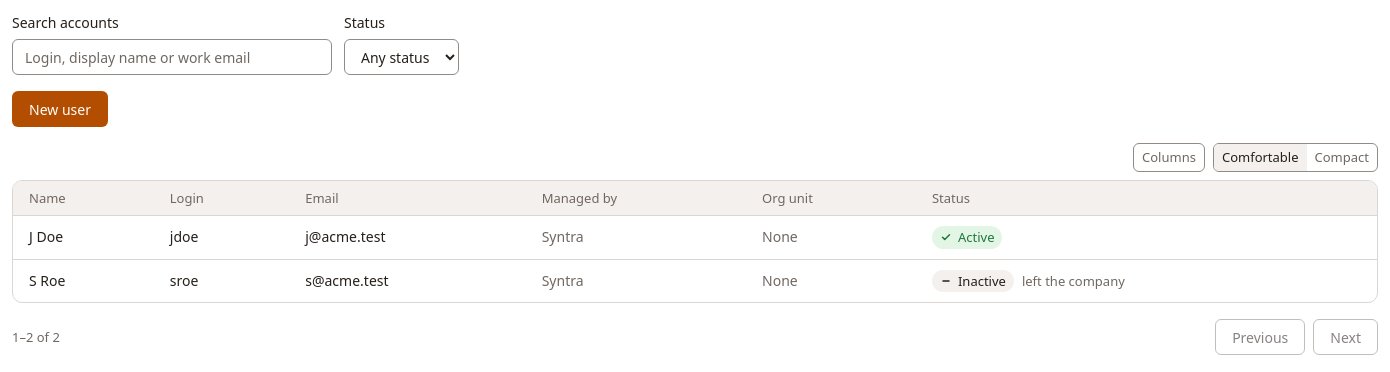
Test case: AccountsTab, the reader’s view of the table › hides an optional column and keeps the name, which cannot be hidden
Check: the link "J Doe" is shown, box top-left (29, 227), bottom-right (63, 246)
Check: the column heading "Login" is shown, box top-left (154, 181), bottom-right (289, 216)
Click the heading "Columns" at x=1169, y=157, box top-left (1133, 143), bottom-right (1205, 172)
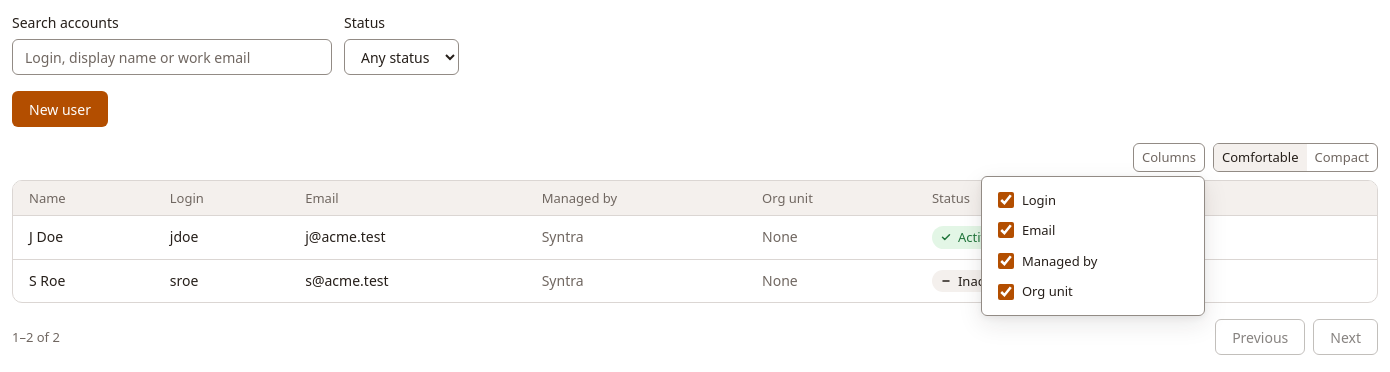
Click the checkbox labelled "Login" at x=1006, y=200, box top-left (998, 192), bottom-right (1014, 208)
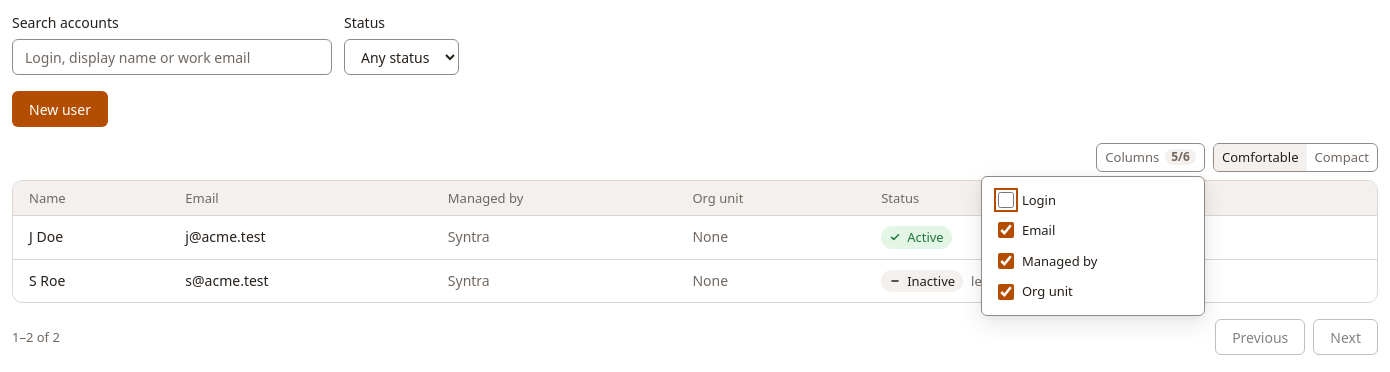
Check: the link "J Doe" is shown, box top-left (29, 227), bottom-right (63, 246)
Check: the text "jdoe" is gone
